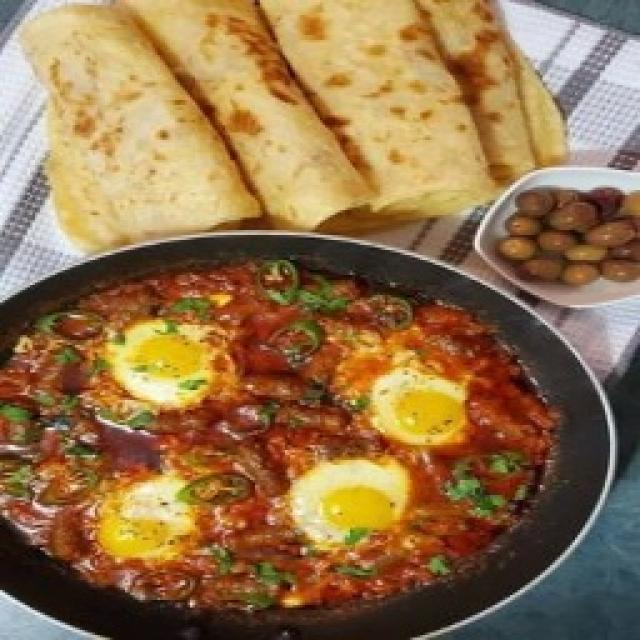Chakchouka: (0, 259, 554, 608)
